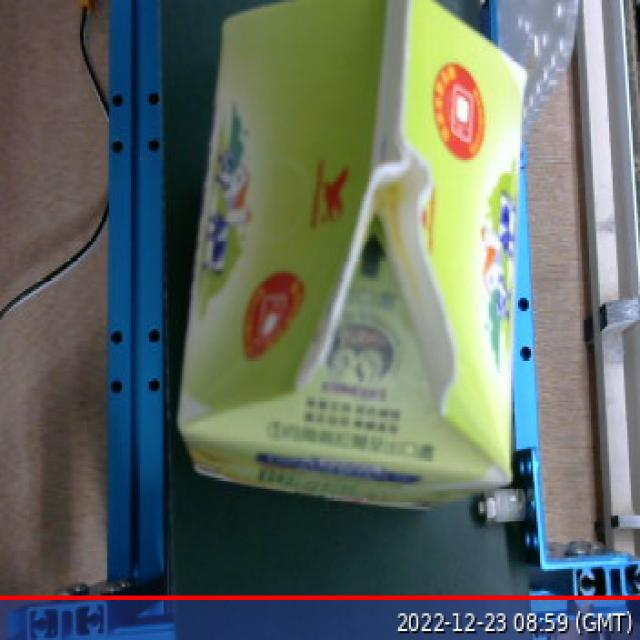non_white_jug: (166, 2, 540, 532)
